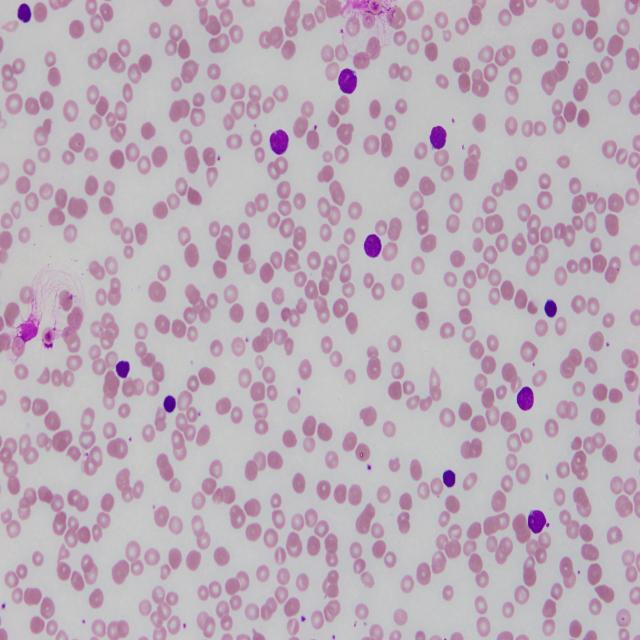cell: (270, 130, 289, 155), (516, 387, 534, 412), (528, 510, 546, 533), (364, 235, 381, 258), (430, 127, 446, 149), (18, 3, 31, 23), (442, 470, 456, 488), (116, 360, 130, 378), (544, 300, 558, 317), (164, 395, 176, 413)
